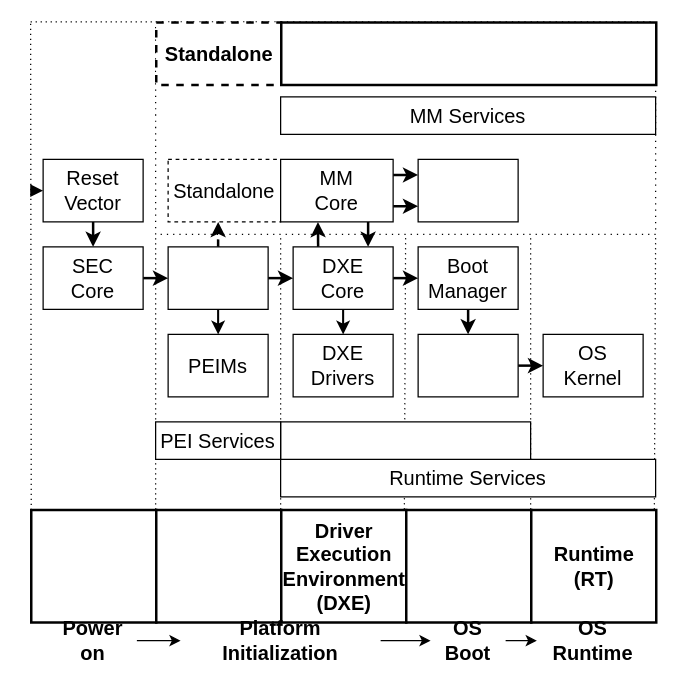
This 680x684 diagram has some shape labels left out. Each missing label, with the centre of its shape:
"Boot Device Selection (BDS)" goes at point 468,565.
"DXE, Boot Services" goes at point 405,440.
"Management Mode (MM)" goes at point 468,53.
"MM Drivers" goes at point 467,190.
"OS Loader" goes at point 467,365.
"PEI Core" goes at point 217,277.
"Pre-EFI Initialization Environment (PEI)" goes at point 218,565.
"Security (SEC)" goes at point 93,565.
